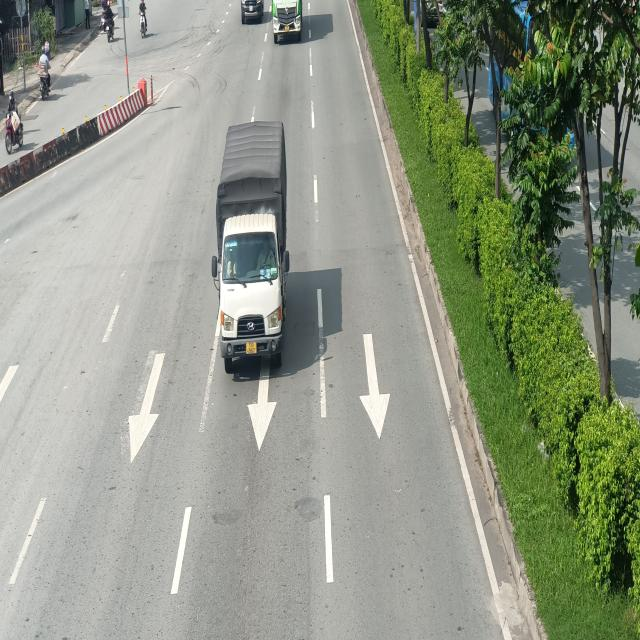truck: (212, 120, 288, 378)
